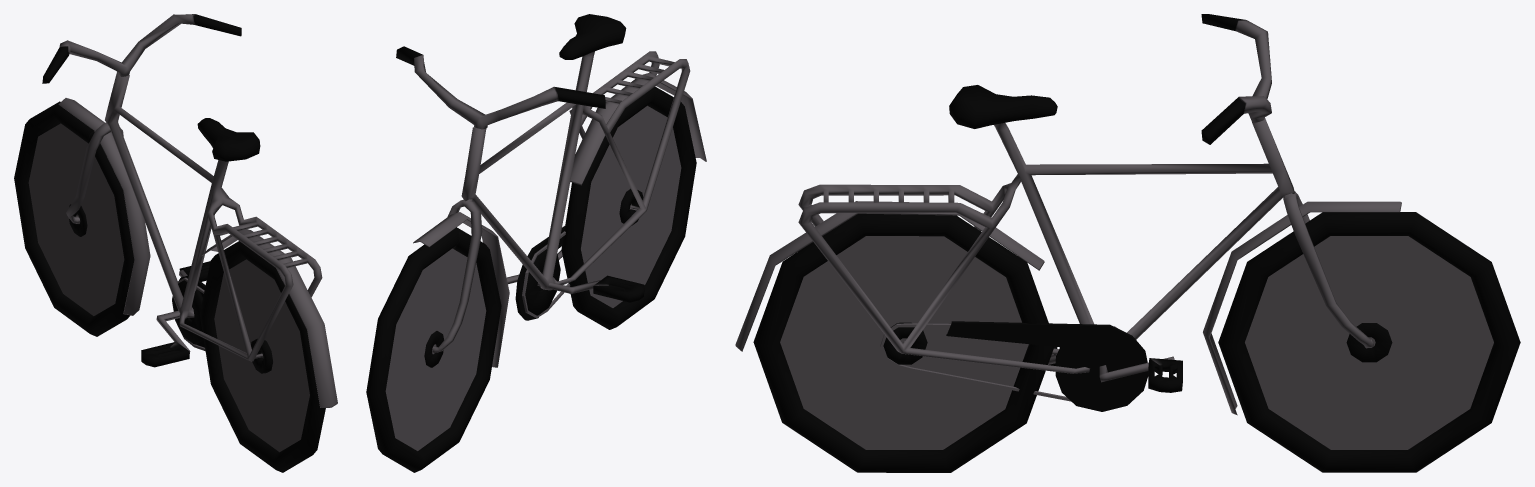
Rendered from Bike.fbx.
The picture shows the model from 3 angles, left to right: view 1: azimuth 30°, elevation 25°; view 2: azimuth 150°, elevation 25°; view 3: azimuth 270°, elevation 25°; orthographic projection. The views are drawn at different scales.
Visible parts, largest first — view 1: Bike_Front_Tire, Bike_Back_Tire, Bike_Frame, Bike_Front_Frame, Bike_Pedals; view 2: Bike_Front_Tire, Bike_Back_Tire, Bike_Frame, Bike_Front_Frame, Bike_Pedals; view 3: Bike_Front_Tire, Bike_Back_Tire, Bike_Frame, Bike_Front_Frame, Bike_Pedals.
Part boxes in pixels (x1,y1,x2,y2): Bike_Front_Tire: (14, 101, 134, 336); Bike_Back_Tire: (199, 241, 325, 472); Bike_Frame: (105, 72, 337, 407); Bike_Front_Frame: (42, 14, 241, 315); Bike_Pedals: (141, 261, 210, 367); Bike_Front_Tire: (366, 227, 501, 472); Bike_Back_Tire: (561, 86, 696, 329); Bike_Frame: (461, 14, 706, 320); Bike_Front_Frame: (396, 46, 605, 367); Bike_Pedals: (506, 274, 644, 302); Bike_Front_Tire: (1218, 212, 1520, 472); Bike_Back_Tire: (753, 213, 1054, 472); Bike_Frame: (735, 85, 1294, 411); Bike_Front_Frame: (1201, 14, 1401, 415); Bike_Pedals: (1048, 346, 1182, 392).
Size of the model in its own units: 74.3 by 118 by 202.
